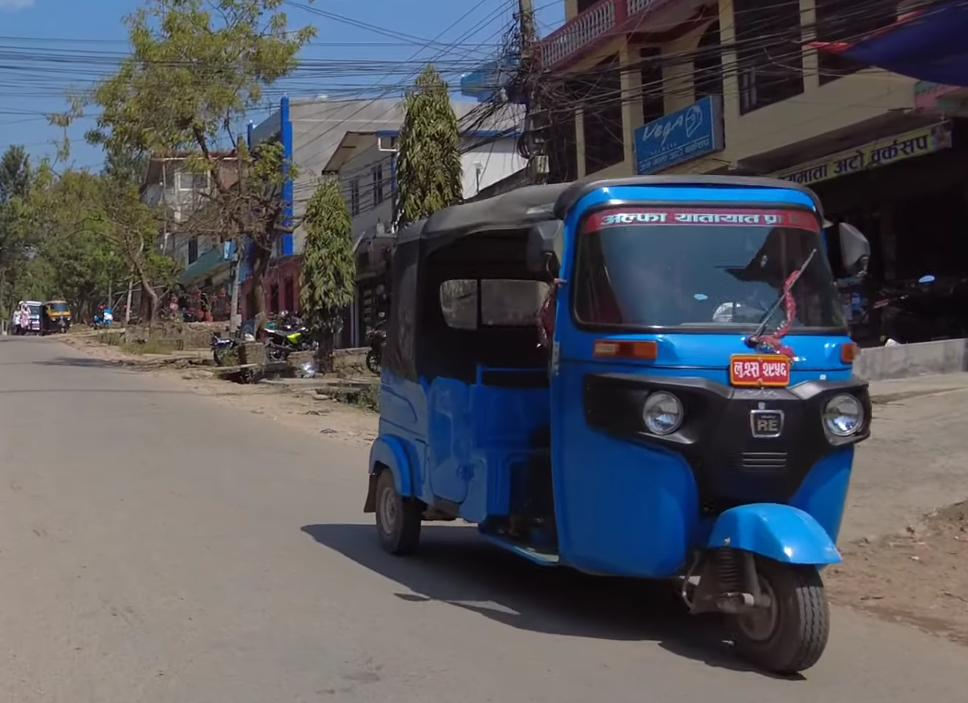auto_rickshaw: (351, 164, 882, 677)
